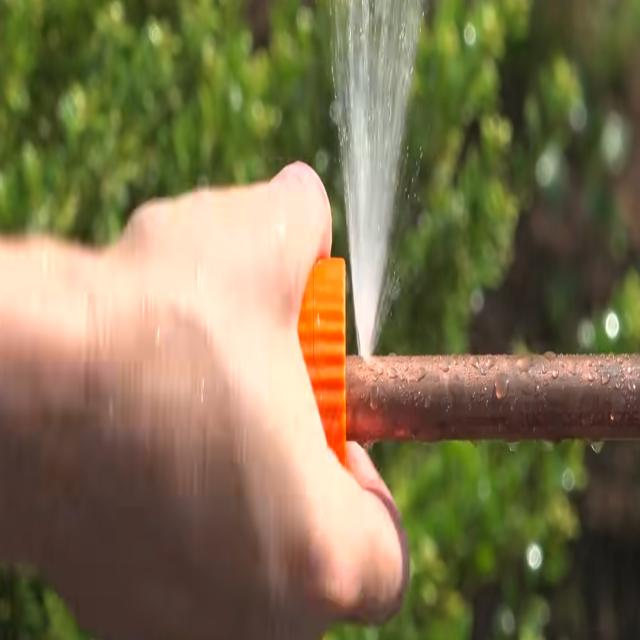leak: (334, 0, 421, 360)
